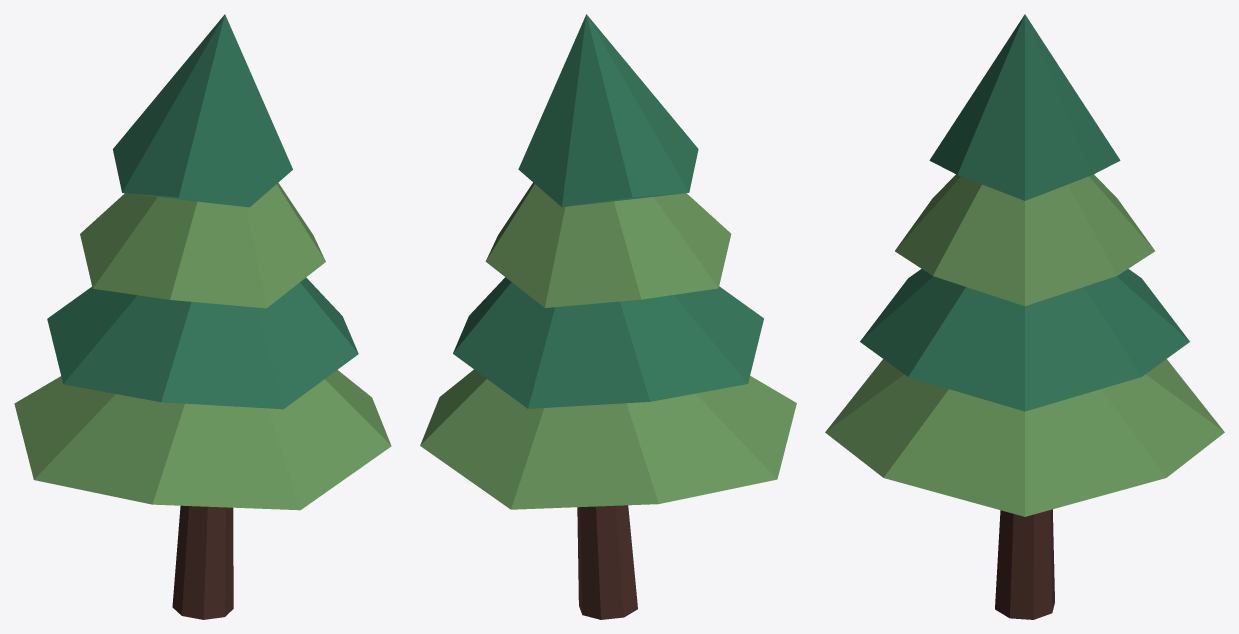
File: cedar.glb
3 renders of one model, left to right at view 1: azimuth 30°, elevation 25°; view 2: azimuth 150°, elevation 25°; view 3: azimuth 270°, elevation 25°, orthographic. The views are drawn at different scales.
Visible parts, largest first — view 1: cedar; view 2: cedar; view 3: cedar.
Boxes of the visible parts, <box> form: cedar: <box>14,14,391,619</box>; cedar: <box>420,14,796,619</box>; cedar: <box>825,14,1224,619</box>.
Bounding box in the file's own units: 4.6 × 7.67 × 4.6.
